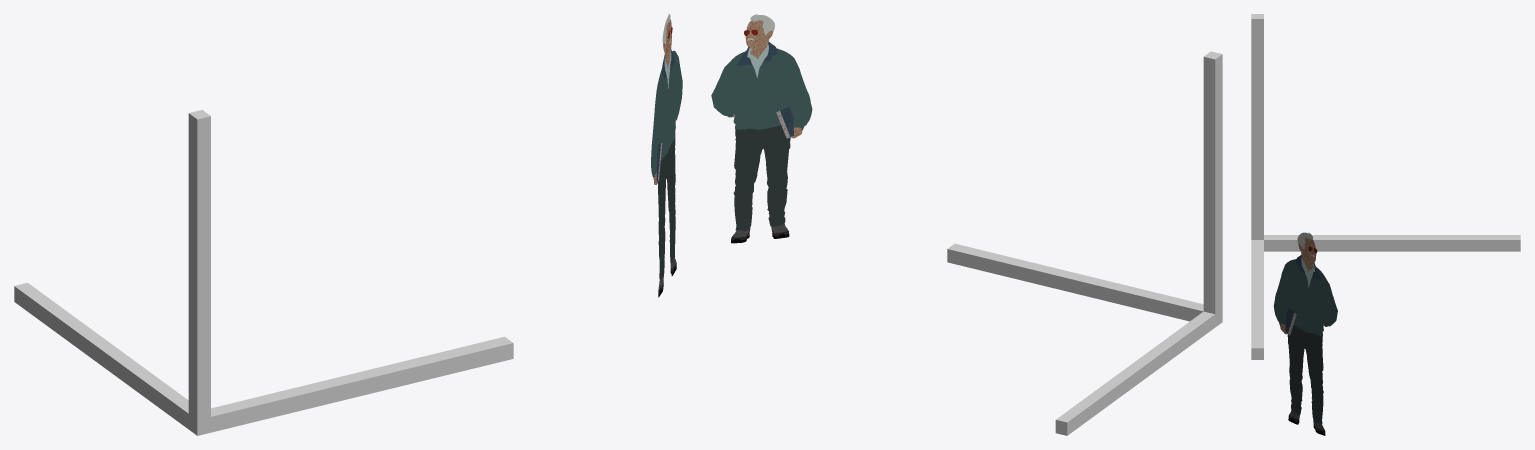
3 renders of one model, left to right at view 1: azimuth 30°, elevation 25°; view 2: azimuth 150°, elevation 25°; view 3: azimuth 270°, elevation 25°, orthographic. The views are drawn at different scales.
Parts seen in each view (by area): view 1: SketchUp, Steve (×2); view 2: SketchUp, Steve (×3); view 3: SketchUp, Steve (×3).
Boxes of the visible parts, box(x1,y1,x2,y2) form: SketchUp: box(14, 110, 513, 435); Steve (×2): box(651, 50, 682, 279); SketchUp: box(947, 51, 1222, 435); Steve (×3): box(711, 20, 812, 230); SketchUp: box(1251, 14, 1520, 359); Steve (×3): box(1273, 237, 1337, 423).
Size of the model in its own units: 142 by 82.68 by 78.74.
